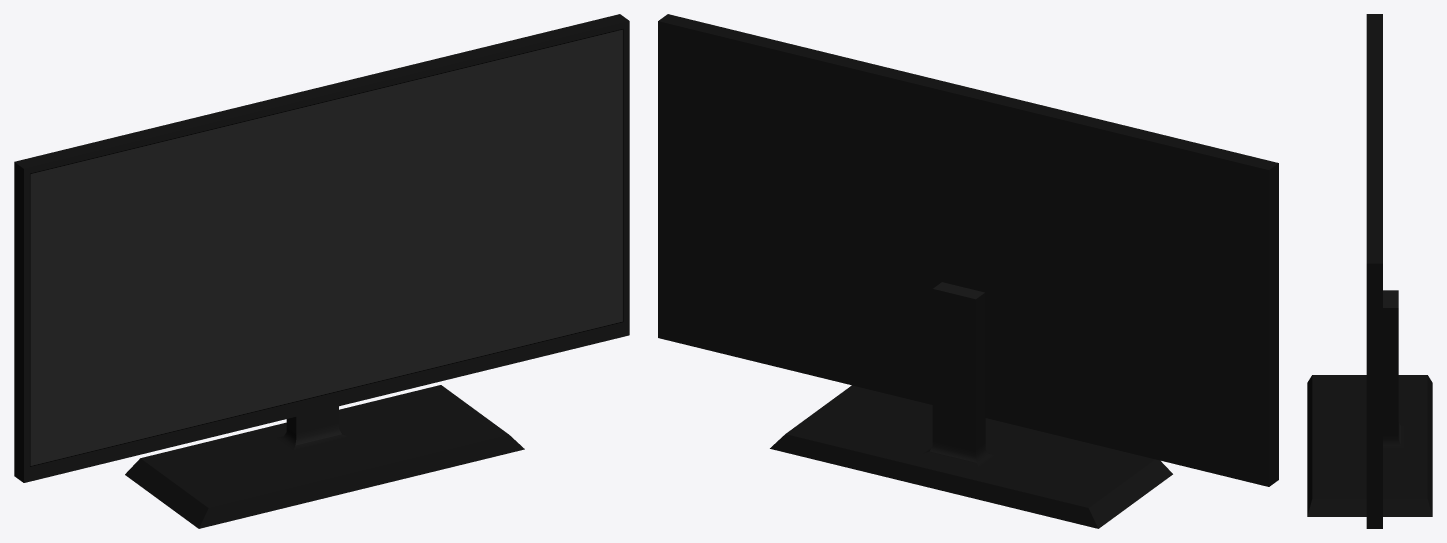
File: TVx20.fbx
3 renders of one model, left to right at view 1: azimuth 30°, elevation 25°; view 2: azimuth 150°, elevation 25°; view 3: azimuth 270°, elevation 25°, orthographic. The views are drawn at different scales.
Visible parts, largest first — view 1: TV; view 2: TV; view 3: TV.
Boxes of the visible parts, x1,y1,x2,y2 form: TV: (14,14,629,528); TV: (658,14,1278,528); TV: (1307,14,1432,528).
Bounding box in the file's own units: 269 × 156 × 57.01.
